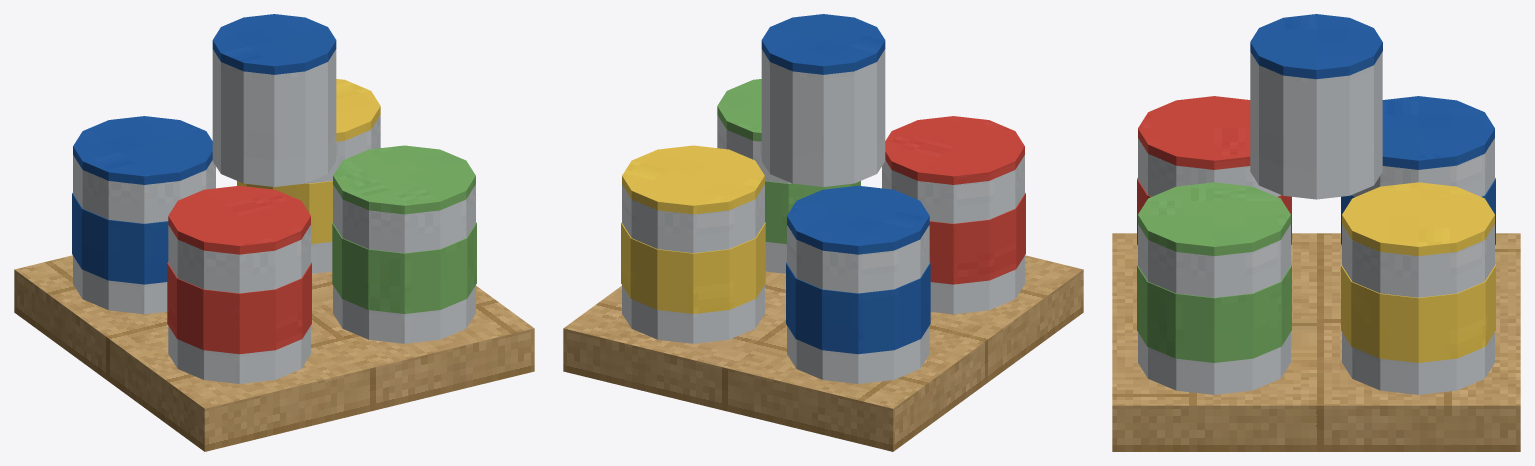
3 views of the same model, side by side, from view 1: azimuth 30°, elevation 25°; view 2: azimuth 150°, elevation 25°; view 3: azimuth 270°, elevation 25° (orthographic). The views are drawn at different scales.
Visible parts, largest first — view 1: paint_cans; view 2: paint_cans; view 3: paint_cans.
Boxes of the visible parts, x1,y1,x2,y2 form: paint_cans: [14, 14, 534, 451]; paint_cans: [563, 14, 1083, 451]; paint_cans: [1112, 14, 1520, 451].
Bounding box in the file's own units: 0.8 × 0.7 × 0.8.
6 materials, 6 textured.
